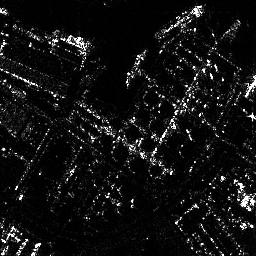ship: (155, 5, 203, 38)
